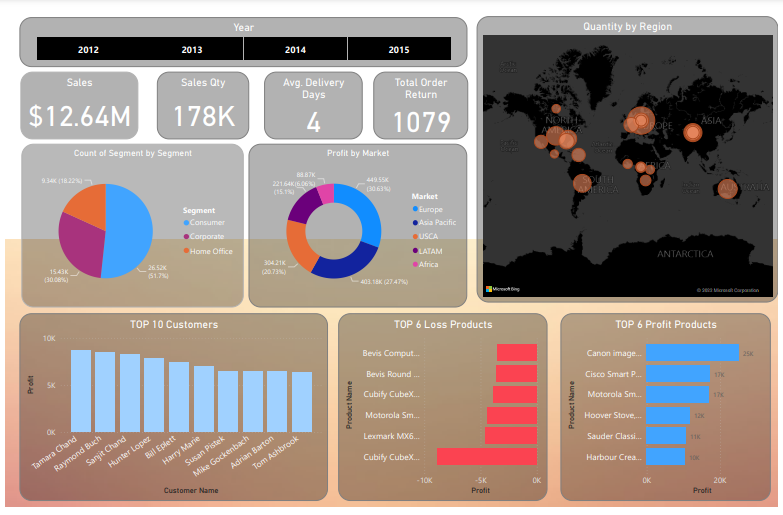

The dashboard page shown, as its layout file describes it:
{"tool":"powerbi","page":{"name":"Page 1","canvas":[1480,950],"ordinal":0},"visuals":[{"type":"card","title":"Sales","fields":{"Values":["Orders.Sales"]},"box":[30,117.2,224.6,128.6],"z":0},{"type":"card","title":"Sales Qty","fields":{"Values":["Orders.Quantity"]},"box":[290.8,117.2,175.7,128.6],"z":1000},{"type":"card","title":"Avg. Delivery Days","fields":{"Values":["Orders.Delivery Day"]},"box":[497.3,117.2,188.3,128.6],"z":2000},{"type":"slicer","title":"Year","fields":{"Values":["Orders.Year"]},"box":[27.5,12.3,856.7,95.2],"z":3000},{"type":"card","title":"Total Order Return","fields":{"Values":["Returns.Return Orders"]},"box":[705.5,117.2,181.1,128.6],"z":4000},{"type":"map","fields":{"Size":["Orders.Quantity"],"Category":["Orders.Region"]},"box":[903.1,11.7,576.9,547.7],"z":5000},{"type":"clusteredBarChart","title":"TOP 6 Profit Products","fields":{"Y":["Orders.Profit"],"Category":["Orders.Product Name"]},"box":[1064.4,580.7,402,359.3],"z":6000},{"type":"clusteredBarChart","title":"TOP 6 Loss Products","fields":{"Y":["Orders.Profit"],"Category":["Orders.Product Name"]},"box":[639,580.7,400.1,359.3],"z":7000},{"type":"columnChart","title":"TOP 10 Customers","fields":{"Y":["Orders.Profit"],"Category":["Orders.Customer Name"]},"box":[27.2,580.7,590.4,359.3],"z":8000},{"type":"pieChart","fields":{"Category":["Orders.Segment"],"Y":["Orders.Segment"]},"box":[31.1,256.4,425.4,312.7],"z":8001},{"type":"donutChart","fields":{"Category":["Orders.Market"],"Y":["Orders.Profit"]},"box":[466.1,256.4,417.6,312.7],"z":8002}]}

Visuals, with their boxes in screenshot pixels (x1, y1, x2, y2), scaled from the page's 1480x950 canvas onto the 783x515 screenshot:
"Sales" card: <bbox>16, 64, 135, 133</bbox>
"Sales Qty" card: <bbox>154, 64, 247, 133</bbox>
"Avg. Delivery Days" card: <bbox>263, 64, 363, 133</bbox>
"Year" slicer: <bbox>15, 7, 468, 58</bbox>
"Total Order Return" card: <bbox>373, 64, 469, 133</bbox>
map - Orders.Quantity x Orders.Region: <bbox>478, 6, 782, 303</bbox>
"TOP 6 Profit Products" clusteredBarChart: <bbox>563, 315, 776, 510</bbox>
"TOP 6 Loss Products" clusteredBarChart: <bbox>338, 315, 550, 510</bbox>
"TOP 10 Customers" columnChart: <bbox>14, 315, 327, 510</bbox>
pieChart - Orders.Segment x Orders.Segment: <bbox>16, 139, 242, 309</bbox>
donutChart - Orders.Market x Orders.Profit: <bbox>247, 139, 468, 309</bbox>
